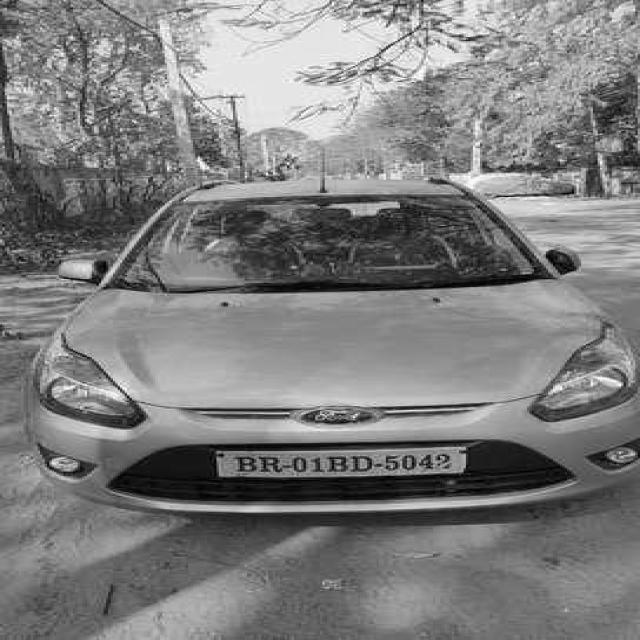car: (23, 163, 640, 533)
license-plate: (207, 446, 475, 480)
